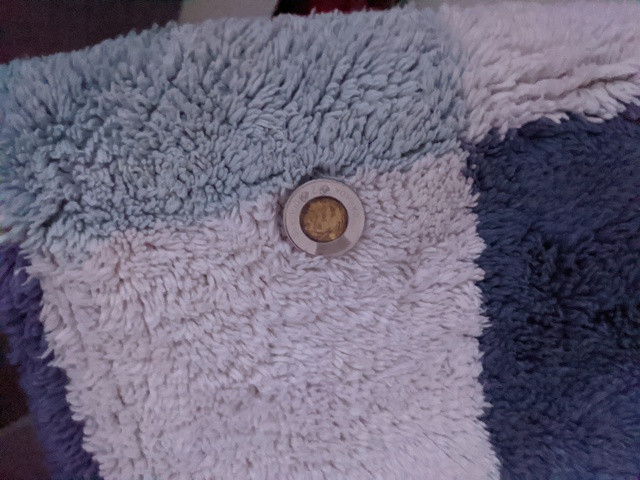twonie: (272, 163, 373, 263)
